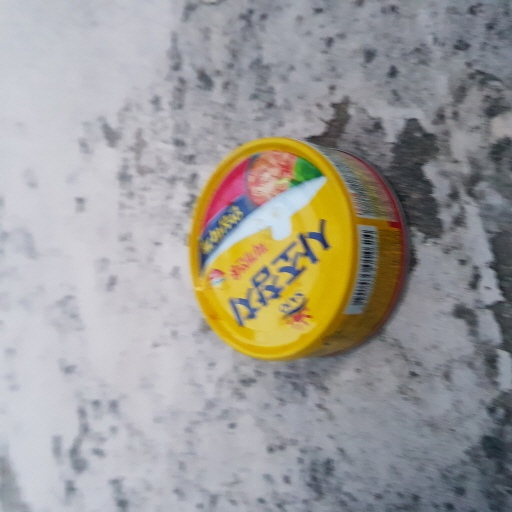Metal_1: (187, 138, 412, 361)
